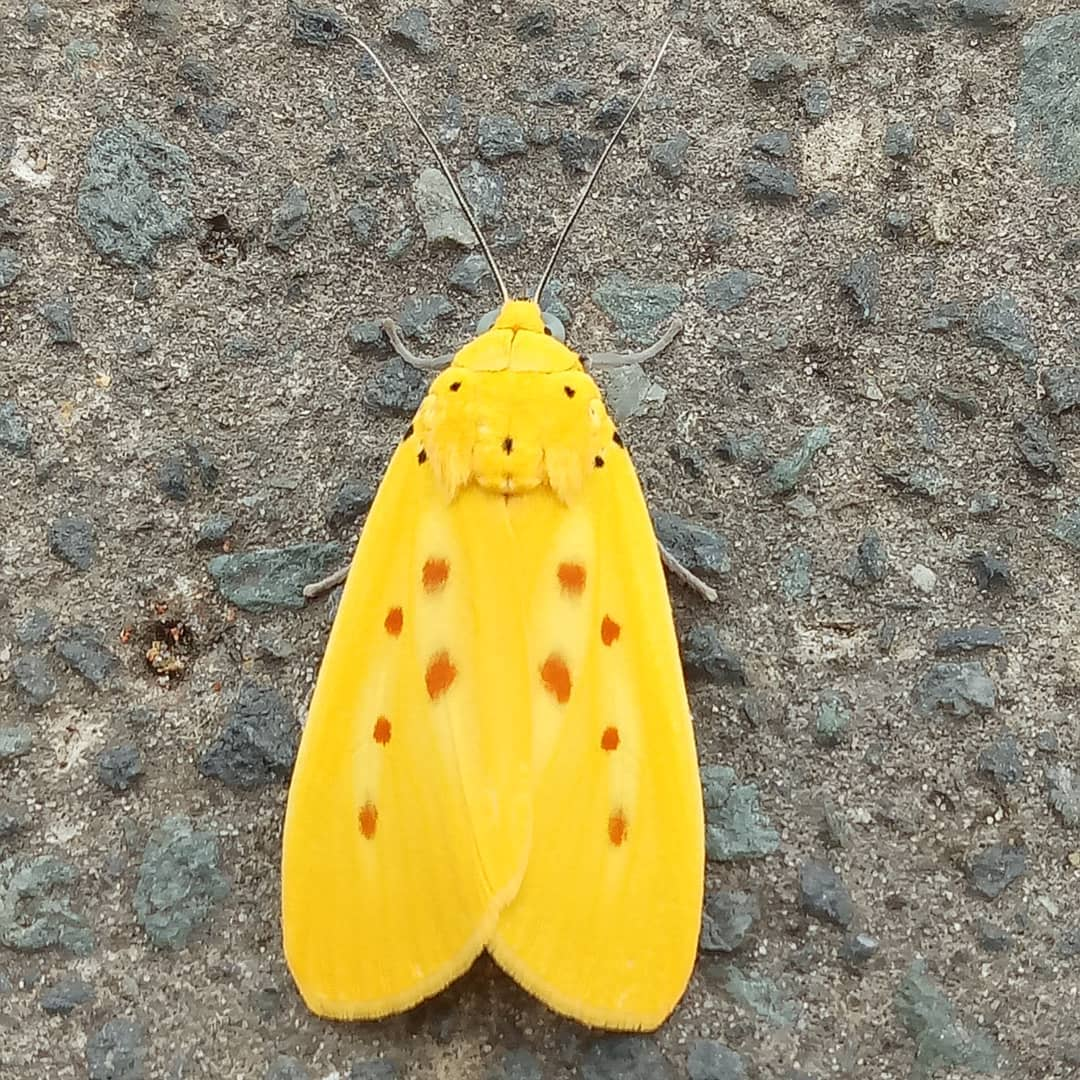Agape chloropyga: (269, 32, 739, 1043)
moth: (271, 34, 741, 1045)
